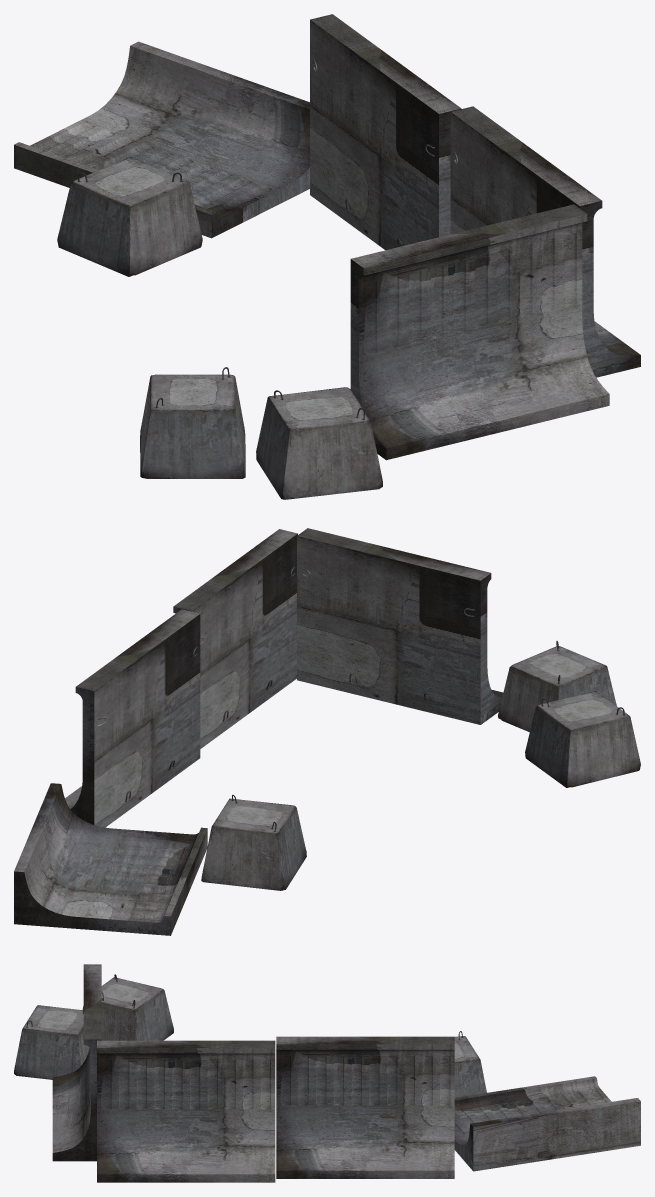
Rendered from fence_road.fbx.
3 views of the same model, one above another, from view 1: azimuth 30°, elevation 25°; view 2: azimuth 150°, elevation 25°; view 3: azimuth 270°, elevation 25° (orthographic). The views are drawn at different scales.
Parts seen in each view (by area): view 1: fence_stand_small, fence_stand_small003, fence_stand_small002, fence_stand_small001, fence_base002, fence_base, fence_base003; view 2: fence_stand_small, fence_stand_small002, fence_stand_small003, fence_stand_small001, fence_base003, fence_base002, fence_base; view 3: fence_stand_small002, fence_stand_small001, fence_stand_small003, fence_stand_small, fence_base, fence_base003, fence_base002.
Part boxes in pixels (x1,y1,x2,y2): fence_stand_small: [350, 204, 609, 460]; fence_stand_small003: [14, 41, 309, 238]; fence_stand_small002: [310, 14, 461, 250]; fence_stand_small001: [450, 106, 640, 377]; fence_base002: [57, 157, 202, 276]; fence_base: [256, 387, 382, 499]; fence_base003: [140, 367, 245, 478]; fence_stand_small: [297, 528, 503, 724]; fence_stand_small002: [65, 609, 200, 827]; fence_stand_small003: [14, 783, 207, 935]; fence_stand_small001: [173, 529, 297, 748]; fence_base003: [525, 691, 640, 787]; fence_base002: [201, 795, 306, 890]; fence_base: [498, 641, 616, 731]; fence_stand_small002: [276, 1036, 454, 1178]; fence_stand_small001: [97, 1040, 275, 1182]; fence_stand_small003: [454, 1076, 640, 1171]; fence_stand_small: [52, 964, 103, 1161]; fence_base: [14, 1005, 89, 1079]; fence_base003: [82, 974, 173, 1040]; fence_base002: [454, 1031, 486, 1097].
Bounding box in the file's own units: 437 × 154 × 702.
